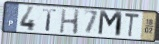4: (19, 6, 38, 33)
7: (83, 9, 100, 36)
H: (59, 8, 82, 35)
M: (96, 10, 124, 39)
T: (124, 11, 141, 39), (42, 8, 58, 32)
